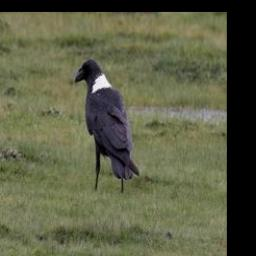Crow: (76, 57, 140, 191)
